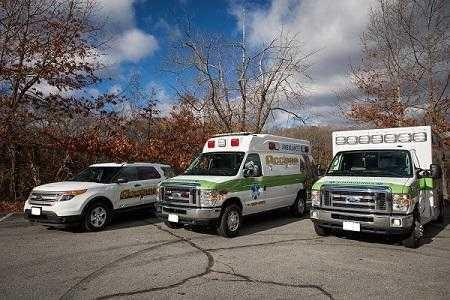car: (155, 131, 319, 237), (309, 124, 444, 247)
